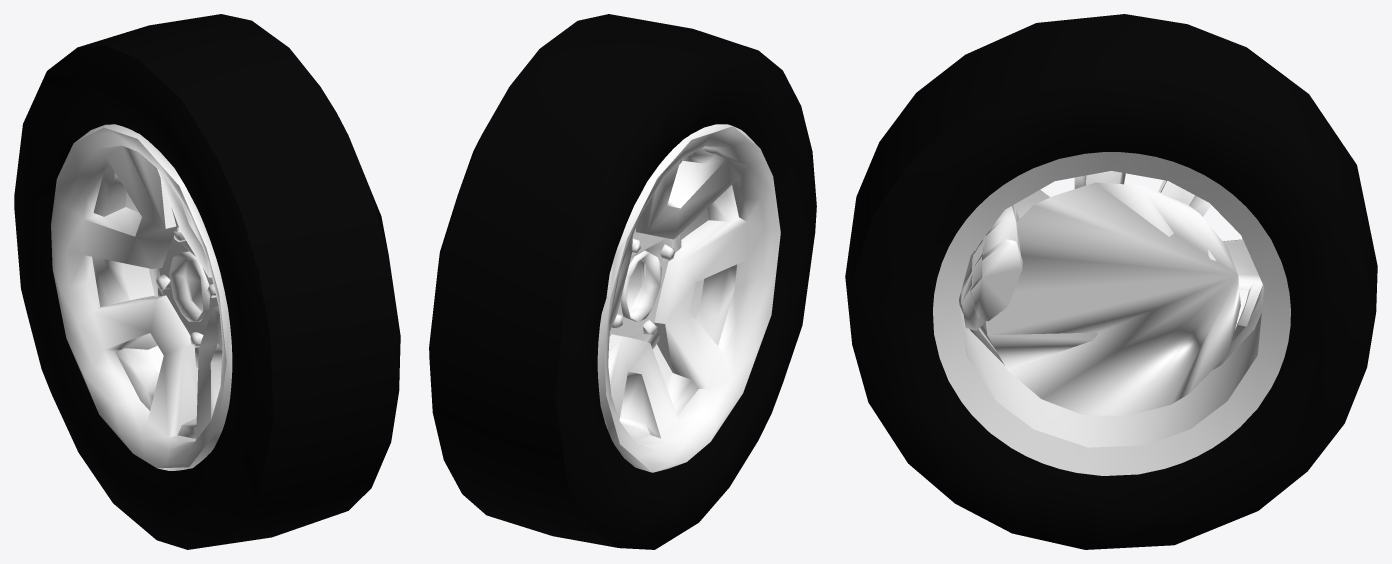
File: cartypewheel1model.obj
The picture shows the model from 3 angles, left to right: view 1: azimuth 30°, elevation 25°; view 2: azimuth 150°, elevation 25°; view 3: azimuth 270°, elevation 25°; orthographic projection.
Parts seen in each view (by area): view 1: Wheel_AE85.002; view 2: Wheel_AE85.002; view 3: Wheel_AE85.002.
Part boxes in pixels (x1=…): Wheel_AE85.002: x1=14, y1=14, x2=400, y2=549; Wheel_AE85.002: x1=429, y1=14, x2=816, y2=549; Wheel_AE85.002: x1=845, y1=14, x2=1377, y2=549.
Bounding box in the file's own units: 0.1822 × 0.5619 × 0.5625.
